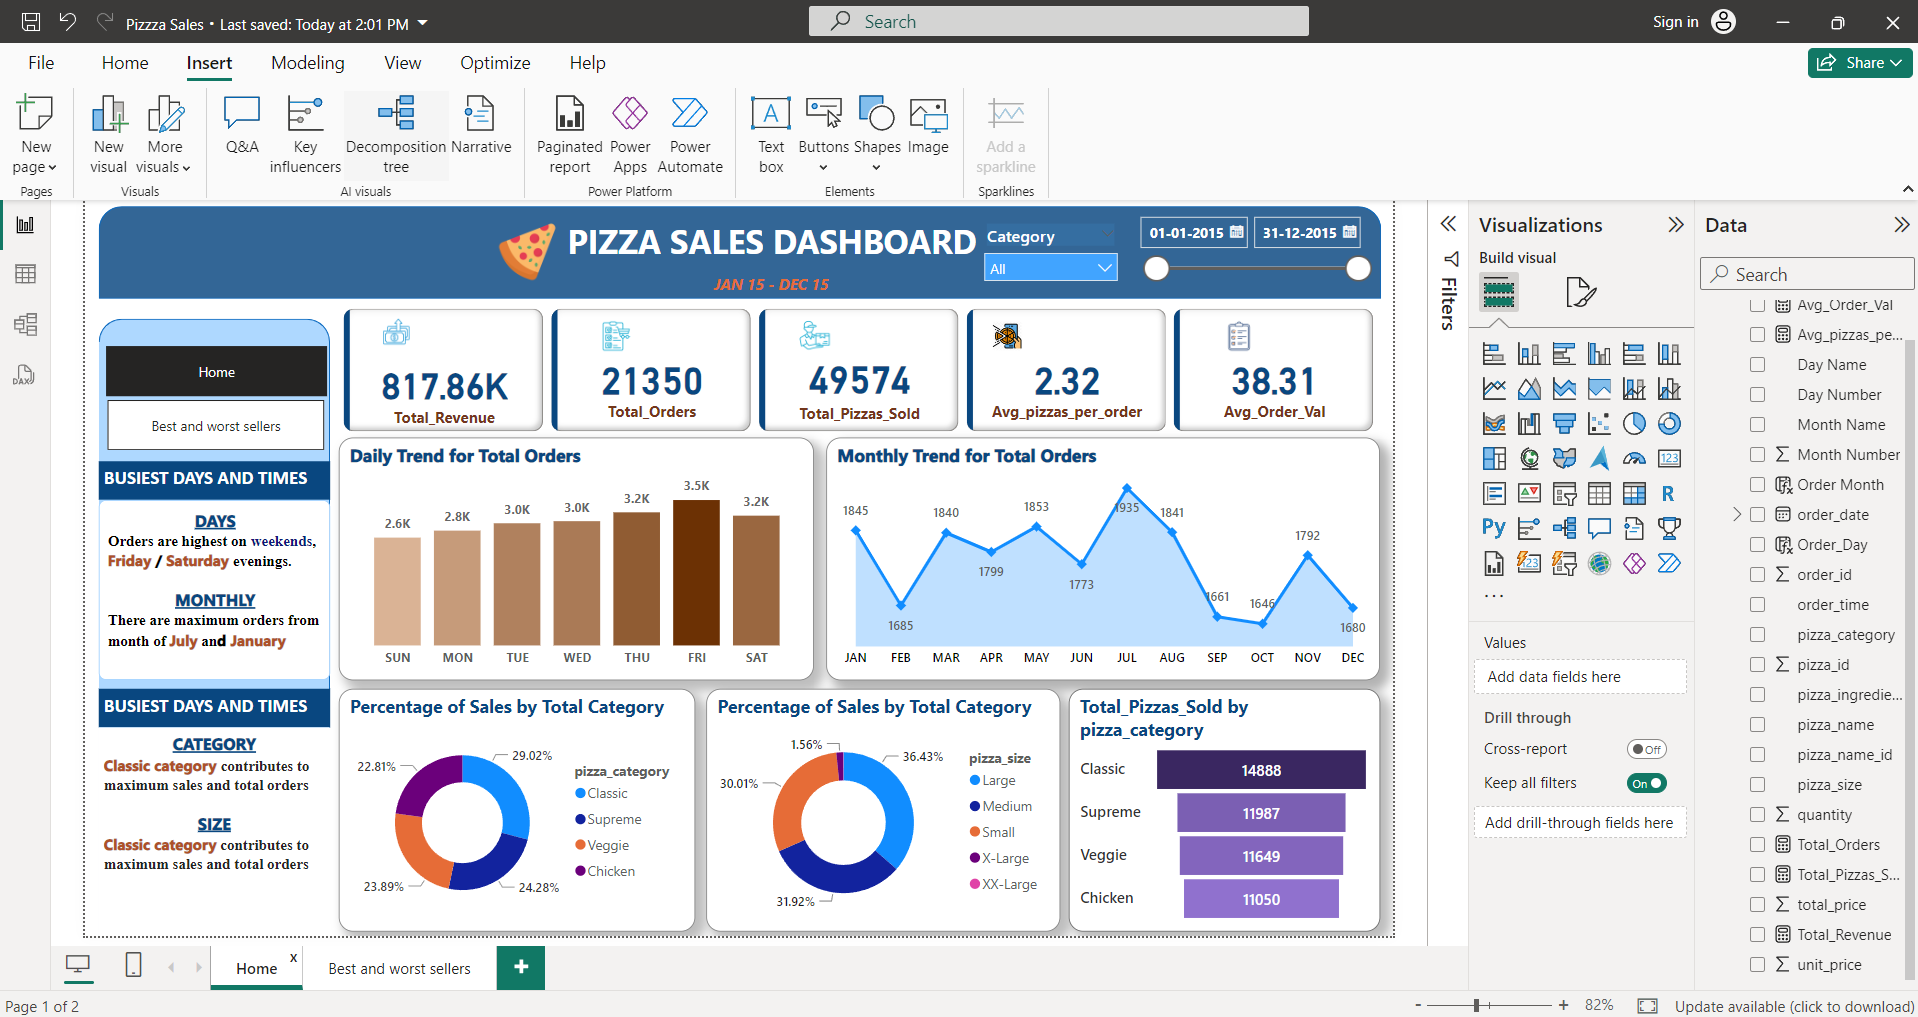

This screenshot's page, from the dashboard's own definition file:
{"tool":"powerbi","page":{"name":"Home","canvas":[1280,720],"ordinal":0},"visuals":[{"type":"shape","box":[13.5,116.2,226.2,604.1],"z":0},{"type":"cardVisual","fields":{"Data":["pizza_sales.Total_Revenue","pizza_sales.Total_Orders","pizza_sales.Total_Pizzas_Sold","pizza_sales.Avg_pizzas_per_order","pizza_sales.Avg_Order_Val"]},"box":[248.2,101.5,1018.6,130.8],"z":1000},{"type":"shape","box":[13.5,6.1,1254.6,90.5],"z":2000},{"type":"textbox","box":[467.5,13.8,422.5,53.8],"z":3000},{"type":"image","box":[397.5,17.5,70,67.5],"z":4000},{"type":"textbox","box":[610,67.5,145,33.8],"z":5000},{"type":"columnChart","title":"Daily Trend for Total Orders","fields":{"Category":["pizza_sales.Order_Day"],"Y":["pizza_sales.Total_Orders"]},"box":[248.2,232.3,464.7,237.2],"z":6000},{"type":"areaChart","title":"Monthly Trend for Total Orders","fields":{"Category":["pizza_sales.Order Month"],"Y":["pizza_sales.Total_Orders"]},"box":[725.1,232.3,541.7,237.2],"z":7000},{"type":"donutChart","title":"Percentage of Sales by Total Category","fields":{"Category":["pizza_sales.pizza_category"],"Y":["pizza_sales.Total_Orders"]},"box":[248.2,478.1,348.5,237.2],"z":8000},{"type":"donutChart","title":"Percentage of Sales by Total Category","fields":{"Y":["pizza_sales.Total_Orders"],"Category":["pizza_sales.pizza_size"]},"box":[607.7,478.1,346.1,237.2],"z":9000},{"type":"funnel","fields":{"Category":["pizza_sales.pizza_category"],"Y":["pizza_sales.Total_Pizzas_Sold"]},"box":[962.4,478.1,304.5,237.2],"z":10000},{"type":"textbox","box":[13.5,255.6,226.2,37.9],"z":11000},{"type":"textbox","box":[13.5,293.5,226.2,176.1],"z":12000},{"type":"textbox","box":[13.5,478.1,226.2,37.9],"z":13000},{"type":"textbox","box":[13.5,516,226.2,204.2],"z":14000},{"type":"slicer","fields":{"Values":["pizza_sales.pizza_category"]},"box":[869.4,18.3,150.4,66],"z":14001},{"type":"slicer","fields":{"Values":["pizza_sales.order_date"]},"box":[1019.8,6.1,247,90.5],"z":14002},{"type":"pageNavigator","box":[20.6,142.7,216.8,49.4],"z":14003},{"type":"pageNavigator","box":[22,196.2,212.7,49.4],"z":14004}]}

Visuals, with their boxes on the page's 1280x720 design canvas (x1, y1, x2, y2). These are canvas units, not pixel positions in the 1918x1017 screenshot, which may show the page scaled, cropped or inside an application window:
shape: (14, 116, 240, 720)
cardVisual - pizza_sales.Total_Revenue x pizza_sales.Total_Orders: (248, 102, 1267, 232)
shape: (14, 6, 1268, 97)
textbox: (468, 14, 890, 68)
image: (398, 18, 468, 85)
textbox: (610, 68, 755, 101)
"Daily Trend for Total Orders" columnChart: (248, 232, 713, 470)
"Monthly Trend for Total Orders" areaChart: (725, 232, 1267, 470)
"Percentage of Sales by Total Category" donutChart: (248, 478, 597, 715)
"Percentage of Sales by Total Category" donutChart: (608, 478, 954, 715)
funnel - pizza_sales.pizza_category x pizza_sales.Total_Pizzas_Sold: (962, 478, 1267, 715)
textbox: (14, 256, 240, 294)
textbox: (14, 294, 240, 470)
textbox: (14, 478, 240, 516)
textbox: (14, 516, 240, 720)
slicer - pizza_sales.pizza_category: (869, 18, 1020, 84)
slicer - pizza_sales.order_date: (1020, 6, 1267, 97)
pageNavigator: (21, 143, 237, 192)
pageNavigator: (22, 196, 235, 246)
